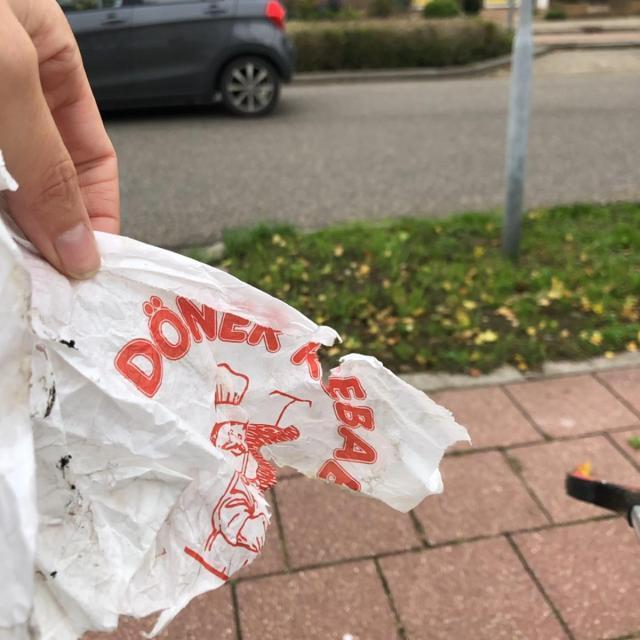Paper: (0, 150, 474, 639)
